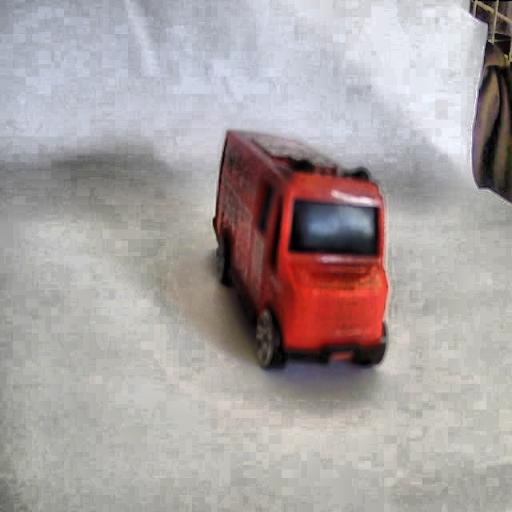fire_truck: (211, 126, 391, 375)
